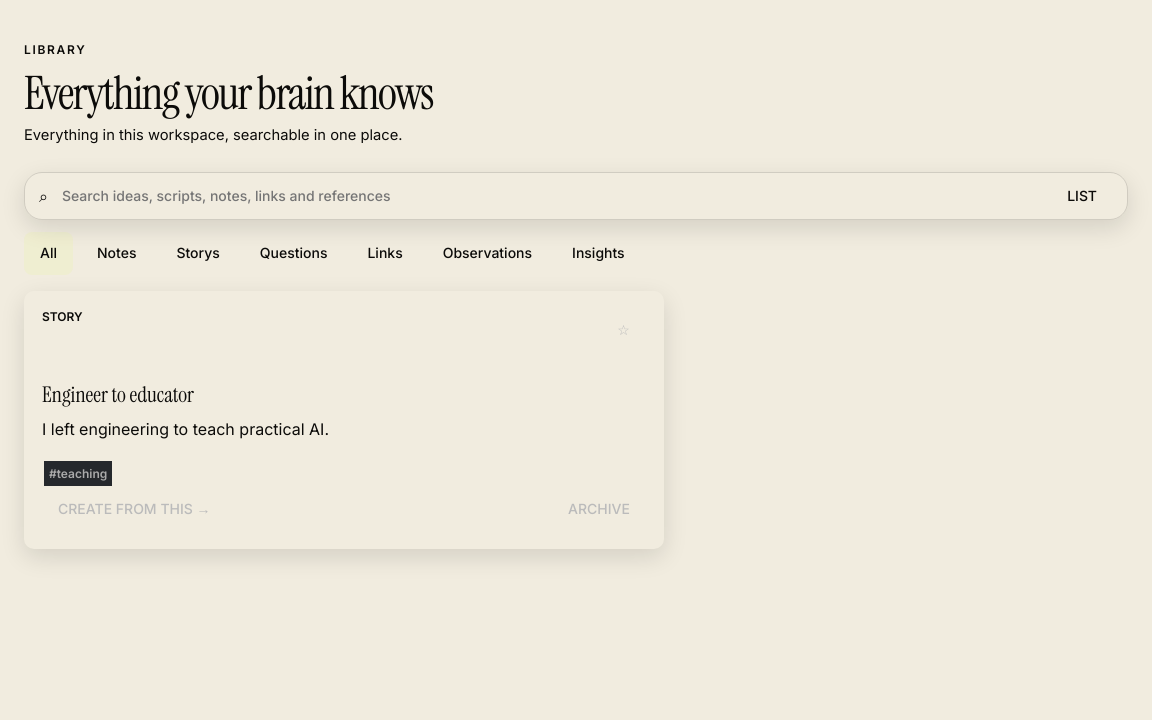
Test: workspace product loop › searches the library
Step 1. Type "educator" into the field named "search library" → (550, 196), box [60, 186, 1039, 207]
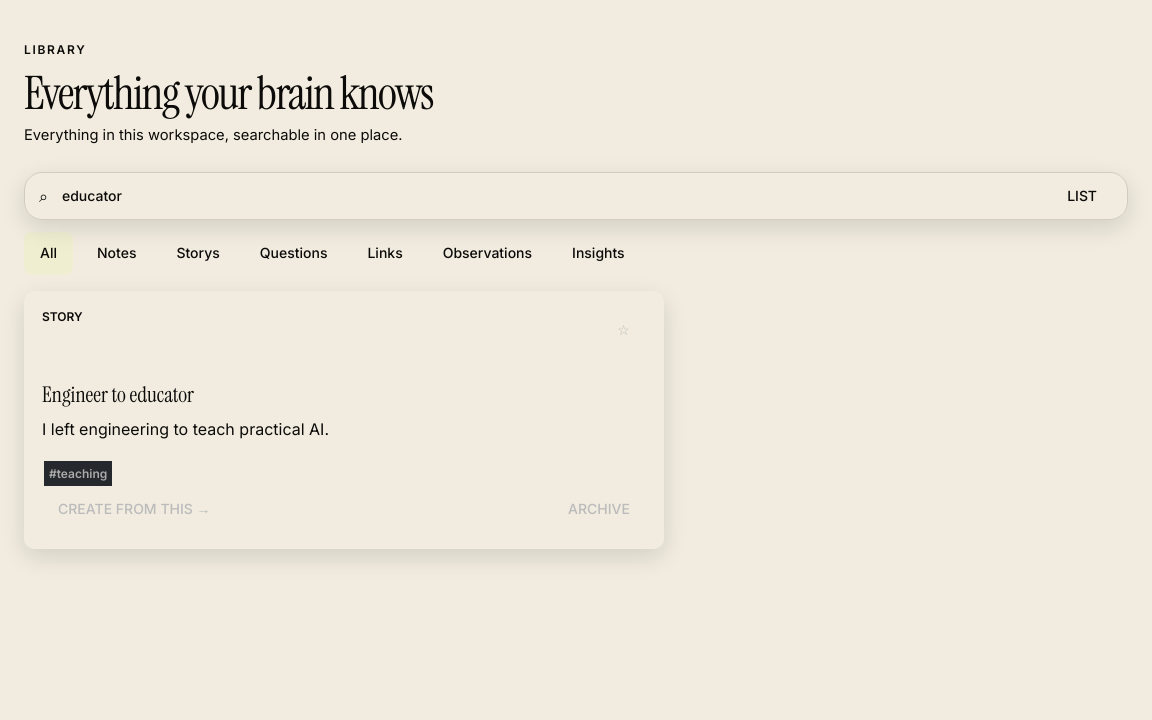
expect the heading "Engineer to educator" is shown: met, box [42, 381, 194, 409]
Step 2. Replace the text in the field named "search library" with "finance" → (550, 196), box [60, 186, 1039, 207]
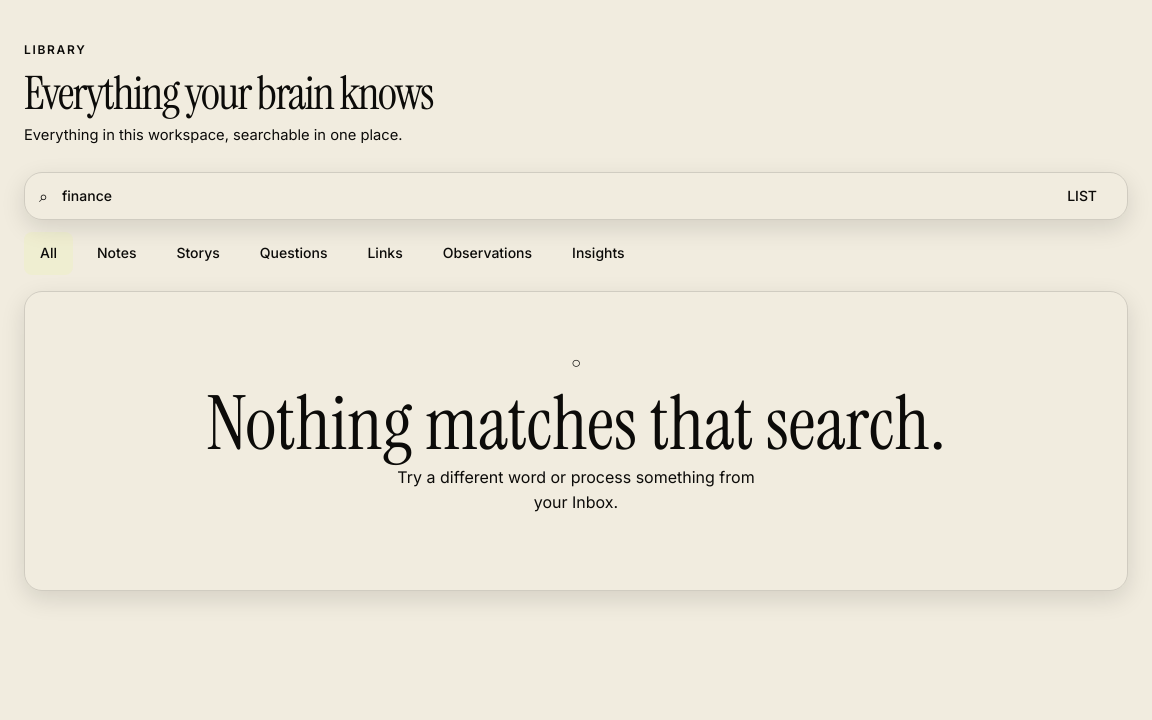
expect the heading "Nothing matches that search." is shown: met, box [206, 390, 946, 458]
